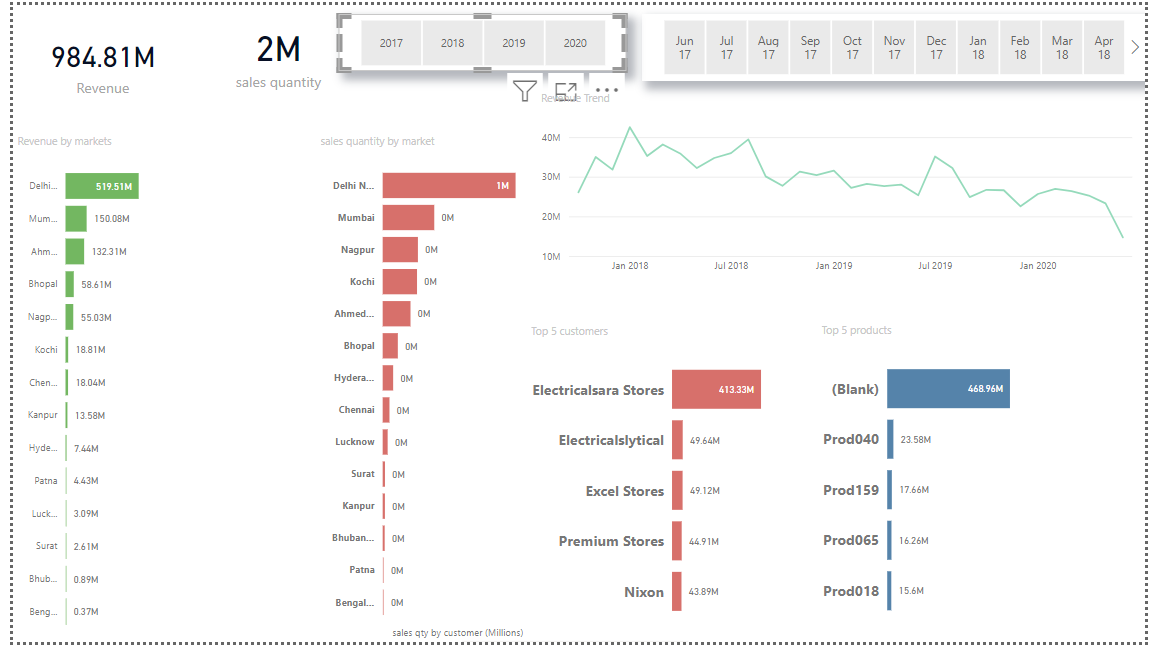

What the dashboard file says about the page in this screenshot:
{"tool":"powerbi","page":{"name":"Page 1","canvas":[1280,720],"ordinal":0},"visuals":[{"type":"card","fields":{"Values":["Base Measures.Revenue"]},"box":[0,6.5,202.2,119.7],"z":0},{"type":"qnaVisual","box":[498.3,705.4,273.4,14.6],"z":1000},{"type":"card","fields":{"Values":["Base Measures.sales quantity"]},"box":[203.7,0,192.6,111.1],"z":3000},{"type":"clusteredBarChart","title":"Revenue by markets","fields":{"Category":["sales markets.markets_name"],"Y":["Base Measures.Revenue"]},"box":[0,146.3,185.2,574.1],"z":4000},{"type":"clusteredBarChart","title":"sales quantity by market","fields":{"Category":["sales markets.markets_name"],"Y":["Base Measures.sales quantity"]},"box":[342.6,146.3,250,574.1],"z":5000},{"type":"slicer","fields":{"Values":["sales date.year"]},"box":[367.6,10.3,325,64.7],"z":6000},{"type":"slicer","fields":{"Values":["sales date.cy_date"]},"box":[710.3,10.3,569.1,75],"z":7000},{"type":"clusteredBarChart","title":"Top 5 customers","fields":{"Category":["sales customers.custmer_name"],"Y":["Base Measures.Revenue"]},"box":[579.6,359.3,316.7,353.7],"z":8000},{"type":"clusteredBarChart","title":"Top 5 products","fields":{"Y":["Base Measures.Revenue"],"Category":["sales products.product_code"]},"box":[909.3,359.3,268.5,353.7],"z":10000},{"type":"lineChart","title":"  Revenue Trend","fields":{"Y":["Base Measures.Revenue"],"Category":["sales date.cy_date"]},"box":[591.2,97.1,688.2,214.7],"z":11000}]}

Visuals, with their boxes in screenshot pixels (x1, y1, x2, y2), scaled from the page's 1280x720 canvas onto the 1159x649 screenshot:
card - Base Measures.Revenue: {"left": 0, "top": 6, "right": 183, "bottom": 114}
qnaVisual: {"left": 451, "top": 636, "right": 699, "bottom": 648}
card - Base Measures.sales quantity: {"left": 184, "top": 0, "right": 359, "bottom": 100}
"Revenue by markets" clusteredBarChart: {"left": 0, "top": 132, "right": 168, "bottom": 648}
"sales quantity by market" clusteredBarChart: {"left": 310, "top": 132, "right": 537, "bottom": 648}
slicer - sales date.year: {"left": 333, "top": 9, "right": 627, "bottom": 68}
slicer - sales date.cy_date: {"left": 643, "top": 9, "right": 1158, "bottom": 77}
"Top 5 customers" clusteredBarChart: {"left": 525, "top": 324, "right": 812, "bottom": 643}
"Top 5 products" clusteredBarChart: {"left": 823, "top": 324, "right": 1066, "bottom": 643}
"  Revenue Trend" lineChart: {"left": 535, "top": 88, "right": 1158, "bottom": 281}
